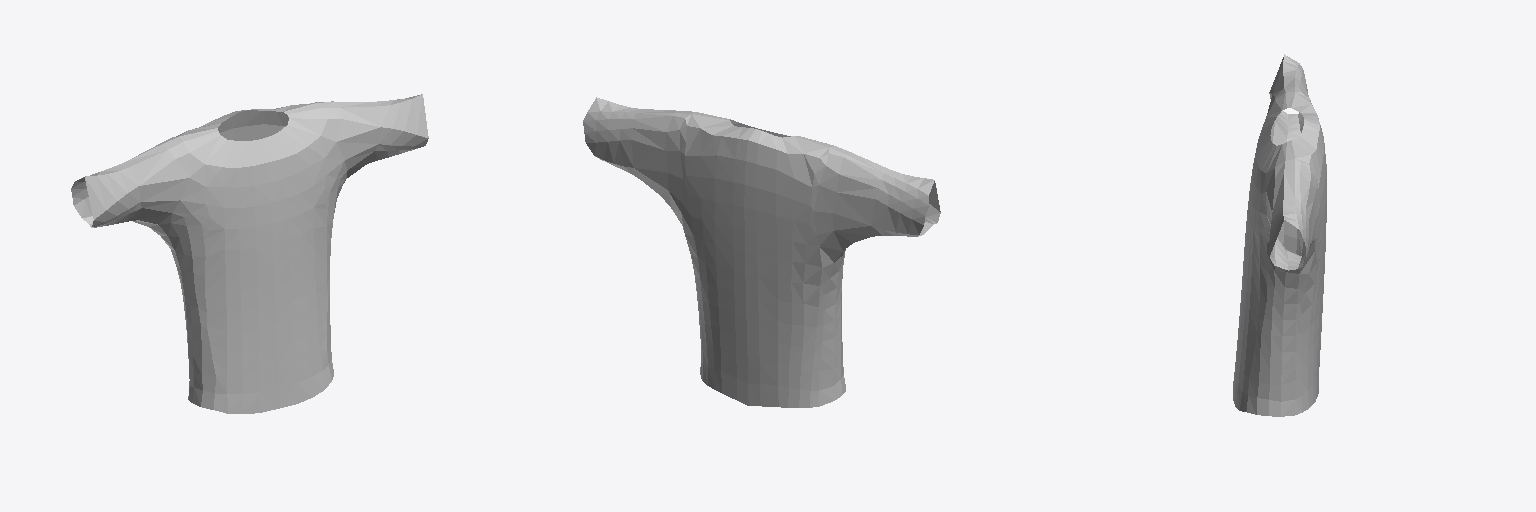
Rendered from tshirt_4.obj.
3 views of the same model, side by side, from view 1: azimuth 30°, elevation 25°; view 2: azimuth 150°, elevation 25°; view 3: azimuth 270°, elevation 25° (orthographic).
Visible parts, largest first — view 1: tshirt_4; view 2: tshirt_4; view 3: tshirt_4.
Boxes of the visible parts, x1,y1,x2,y2 form: tshirt_4: [71, 94, 428, 413]; tshirt_4: [583, 97, 940, 407]; tshirt_4: [1233, 54, 1326, 416].
Bounding box in the file's own units: 1.57 × 1.18 × 0.3692.